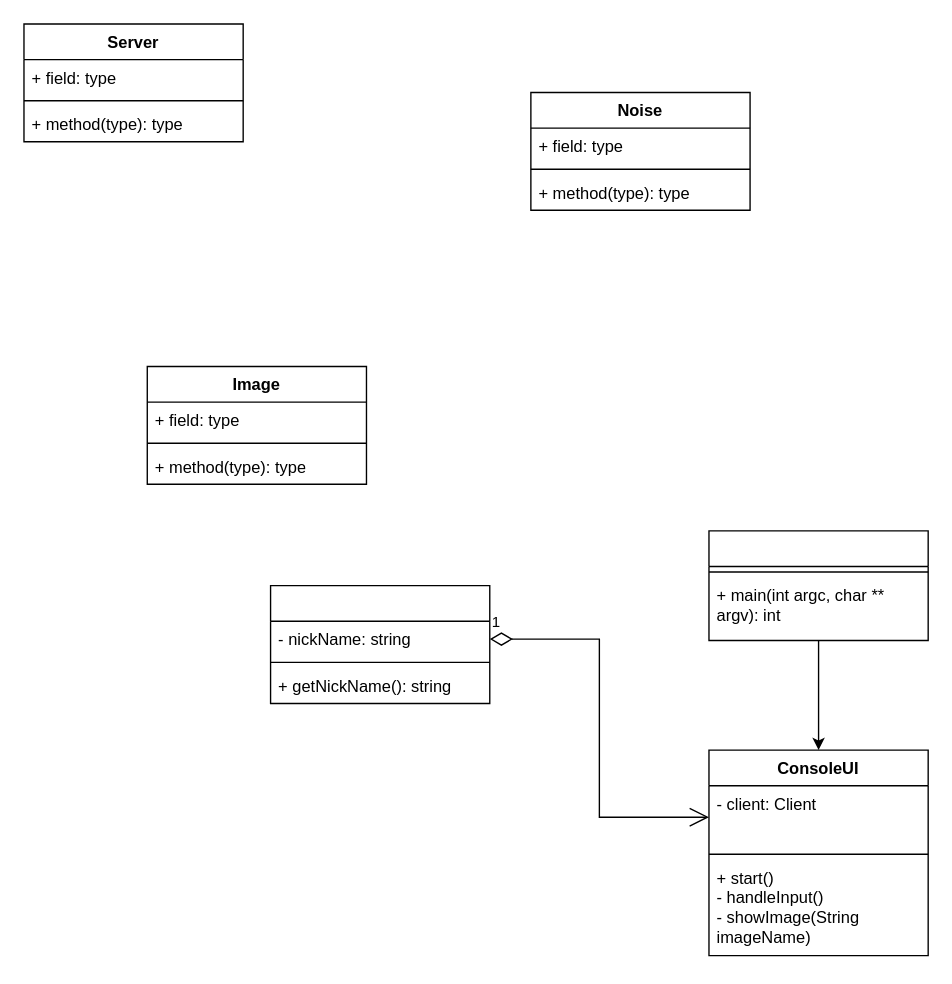
Image size: 952x984. Some labels were removed from this diagram. The shapes that lost their labels are listed below. From the top down, each one's box as (x1, y1, x2, y2) in pixels, then its label:
(708, 530, 928, 640): MyNoiseGenerator
(269, 584, 490, 703): Client
